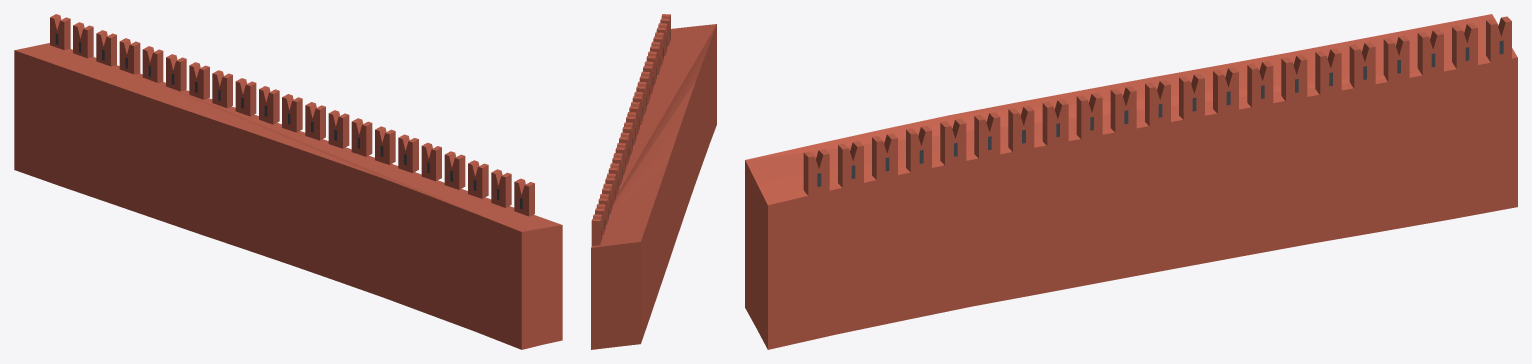
Rendered from moscow-kremlin-wall-tsars-alarm.glb.
3 renders of one model, left to right at view 1: azimuth 30°, elevation 25°; view 2: azimuth 150°, elevation 25°; view 3: azimuth 270°, elevation 25°, orthographic. The views are drawn at different scales.
Parts seen in each view (by area): view 1: Kremlin Wall, Tsar's Tower to Alarm Tower; view 2: Kremlin Wall, Tsar's Tower to Alarm Tower; view 3: Kremlin Wall, Tsar's Tower to Alarm Tower.
Part boxes in pixels (bbox=[...]): Kremlin Wall, Tsar's Tower to Alarm Tower: bbox=[14, 14, 562, 349]; Kremlin Wall, Tsar's Tower to Alarm Tower: bbox=[591, 14, 716, 349]; Kremlin Wall, Tsar's Tower to Alarm Tower: bbox=[745, 14, 1517, 349].
Size of the model in its own units: 20.35 by 12.02 by 41.96.
